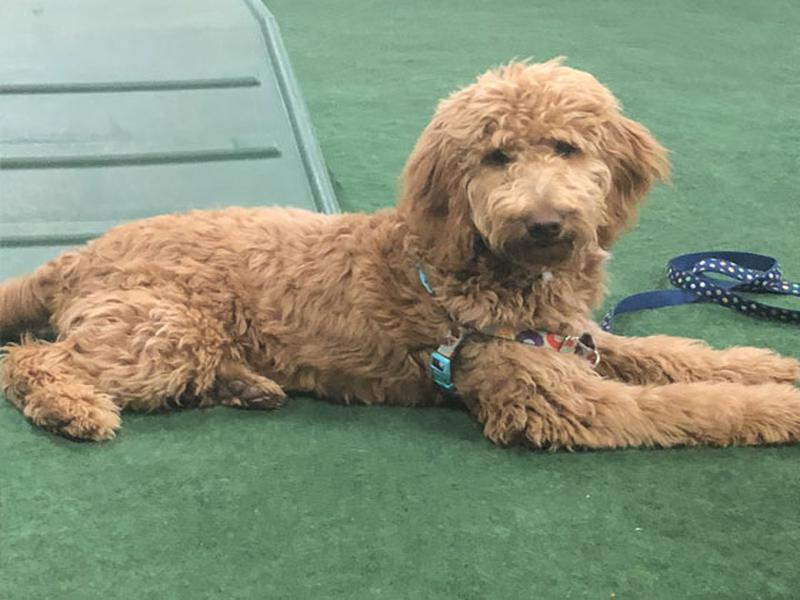dog_down: (1, 56, 800, 456)
